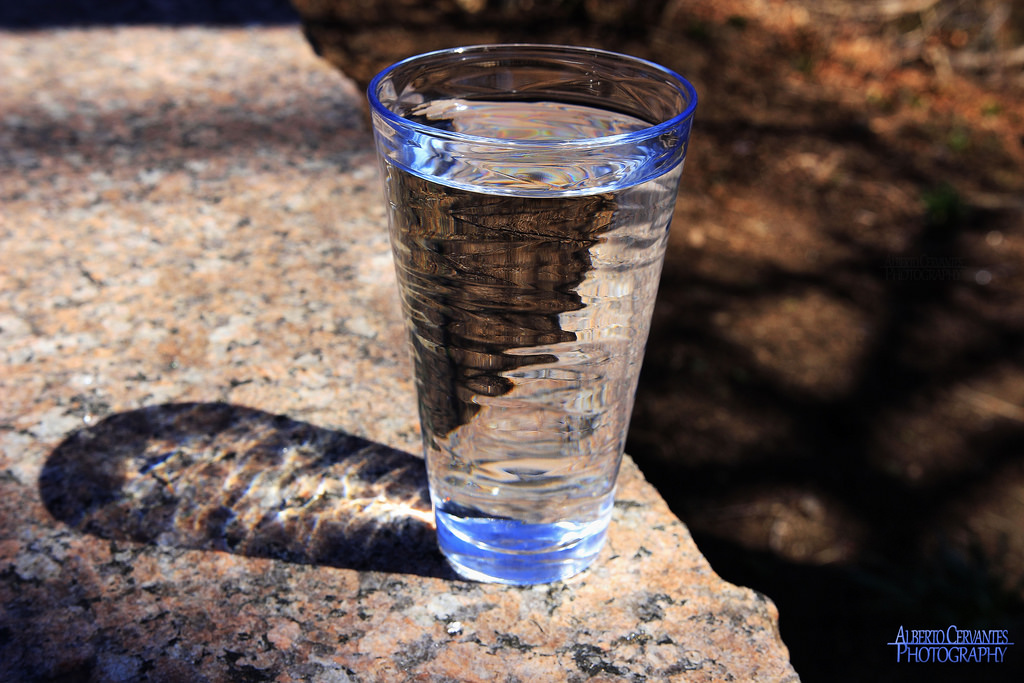glass of water: (383, 69, 650, 602)
